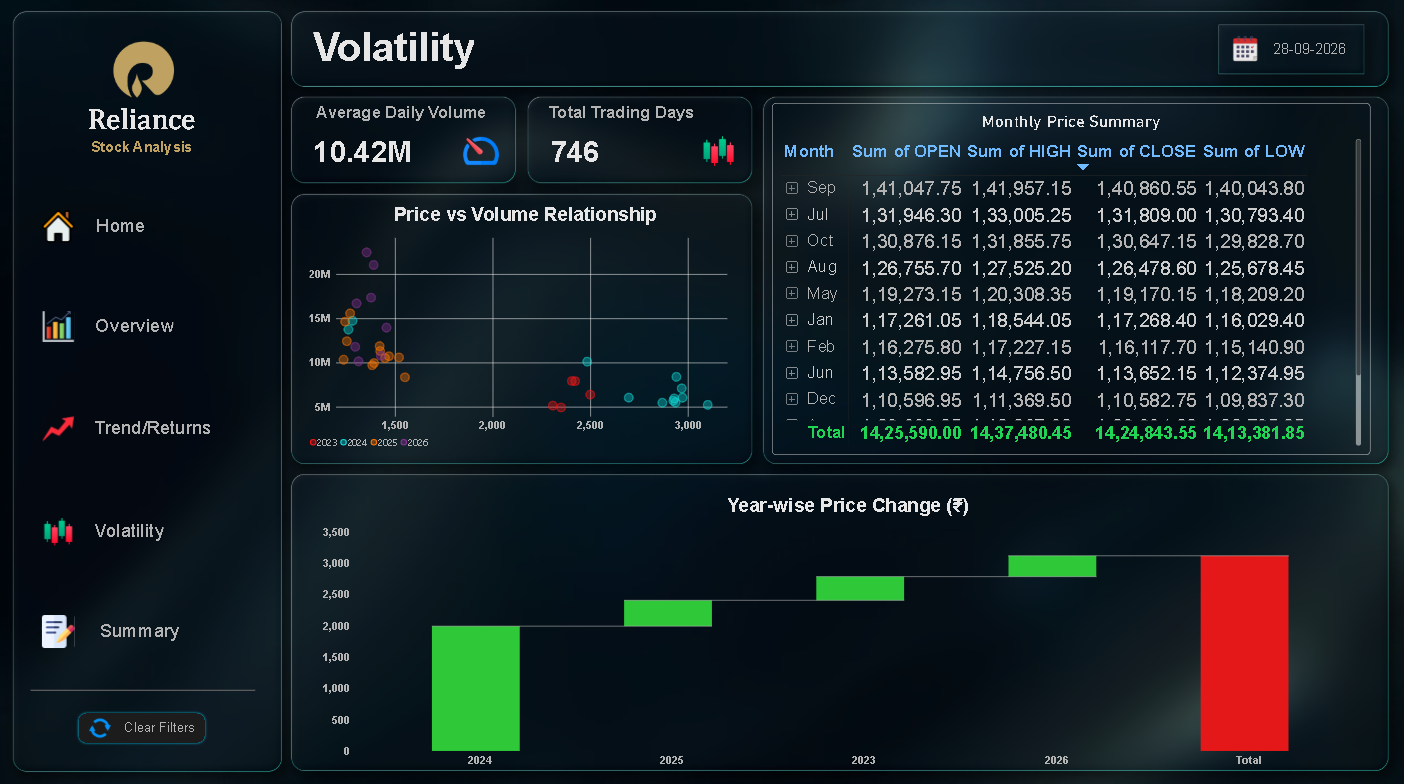

This screenshot's page, from the dashboard's own definition file:
{"tool":"powerbi","page":{"name":"Volatility","canvas":[2560,1440],"ordinal":3},"visuals":[{"type":"image","box":[2246,69,48,48],"z":0,"group":"g1"},{"type":"cardVisual","title":"Average Daily Volume","fields":{"Data":["Stock project row data.Avg Daily Volume"]},"box":[560,192,352,128],"z":0},{"type":"textbox","box":[164.8,193.9,200,62.1],"z":0,"group":"g4"},{"type":"textbox","box":[2320,79,144,32],"z":1000,"group":"g1"},{"type":"cardVisual","title":"Total Trading Days","fields":{"Data":["Stock project row data.Total Trading Days"]},"box":[992,192,288,128],"z":1000},{"type":"image","box":[204.8,64,120,131.9],"z":2000,"group":"g4"},{"type":"textbox","box":[168.8,254,192,32],"z":2000,"group":"g5"},{"type":"scatterChart","title":"Price vs Volume Relationship","fields":{"Category":["Stock project row data.Month"],"Series":["Stock project row data.Year"],"X":["Stock project row data.Avg Monthly Close"],"Y":["Stock project row data.Avg Monthly Volume"]},"box":[552,360,816,480],"z":2000},{"type":"waterfallChart","title":"Year-wise Price Change (₹)","fields":{"Category":["Stock project row data.Year"],"Y":["Stock project row data.Yearly Price Change"]},"box":[576,888,1944,528],"z":3000},{"type":"textbox","box":[576,48,888,120],"z":4000},{"type":"group","id":"g1","title":"Group 1","box":[2246,69,218,48],"z":5000},{"type":"pivotTable","title":"Monthly Price Summary","fields":{"Rows":["Stock project row data.Month","Stock project row data.Year"],"Values":["Sum(Stock project row data.OPEN)","Sum(Stock project row data.HIGH)","Sum(Stock project row data.CLOSE)","Sum(Stock project row data.LOW)"]},"box":[1408,192,1088,640],"z":6000},{"type":"group","id":"g2","title":"Group 5","box":[60.8,64,408,1232],"z":7000},{"type":"actionButton","box":[144,1296,240,64],"z":8000},{"type":"image","box":[1280,245,65,65],"z":8001},{"type":"image","box":[848,245,65,65],"z":8002},{"type":"actionButton","box":[60.8,360,408,112],"z":10000,"group":"g3"},{"type":"group","id":"g3","title":"Group 1","box":[60.8,360,408,936],"z":11000,"group":"g2"},{"type":"actionButton","box":[60.8,541.9,408,112],"z":11000,"group":"g3"},{"type":"actionButton","box":[60.8,913.6,408,112],"z":12000,"group":"g3"},{"type":"group","id":"g4","title":"Group 3","box":[164.8,64,200,192],"z":13000,"group":"g5"},{"type":"actionButton","box":[60.8,723.8,408,120],"z":13000,"group":"g3"},{"type":"group","id":"g5","title":"Group 4","box":[164.8,64,200,222],"z":13001,"group":"g2"},{"type":"actionButton","box":[60.8,1095.5,408,112],"z":14000,"group":"g3"},{"type":"shape","box":[60.8,1224,408,72],"z":15000,"group":"g3"}]}

Visuals, with their boxes in screenshot pixels (x1, y1, x2, y2), scaled from the page's 2560x1440 canvas onto the 1404x784 screenshot:
image: x1=1232 y1=38 x2=1258 y2=64
"Average Daily Volume" cardVisual: x1=307 y1=105 x2=500 y2=174
textbox: x1=90 y1=106 x2=200 y2=139
textbox: x1=1272 y1=43 x2=1351 y2=60
"Total Trading Days" cardVisual: x1=544 y1=105 x2=702 y2=174
image: x1=112 y1=35 x2=178 y2=107
textbox: x1=93 y1=138 x2=198 y2=156
"Price vs Volume Relationship" scatterChart: x1=303 y1=196 x2=750 y2=457
"Year-wise Price Change (₹)" waterfallChart: x1=316 y1=483 x2=1382 y2=771
textbox: x1=316 y1=26 x2=803 y2=91
"Group 1" group: x1=1232 y1=38 x2=1351 y2=64
"Monthly Price Summary" pivotTable: x1=772 y1=105 x2=1369 y2=453
"Group 5" group: x1=33 y1=35 x2=257 y2=706
actionButton: x1=79 y1=706 x2=211 y2=740
image: x1=702 y1=133 x2=738 y2=169
image: x1=465 y1=133 x2=501 y2=169
actionButton: x1=33 y1=196 x2=257 y2=257
"Group 1" group: x1=33 y1=196 x2=257 y2=706
actionButton: x1=33 y1=295 x2=257 y2=356
actionButton: x1=33 y1=497 x2=257 y2=558
"Group 3" group: x1=90 y1=35 x2=200 y2=139
actionButton: x1=33 y1=394 x2=257 y2=459
"Group 4" group: x1=90 y1=35 x2=200 y2=156
actionButton: x1=33 y1=596 x2=257 y2=657
shape: x1=33 y1=666 x2=257 y2=706
